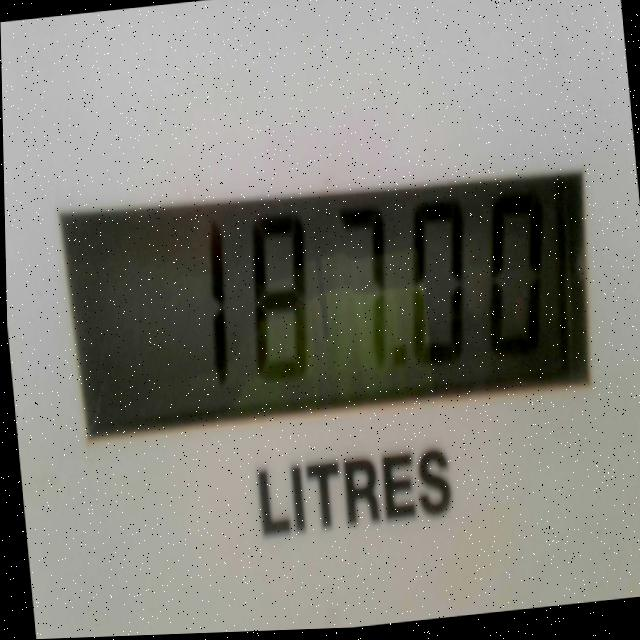.: (388, 344, 414, 385)
0: (472, 175, 558, 394), (395, 194, 476, 406)
1: (184, 215, 244, 402)
7: (328, 191, 400, 379)
8: (234, 199, 320, 390)
